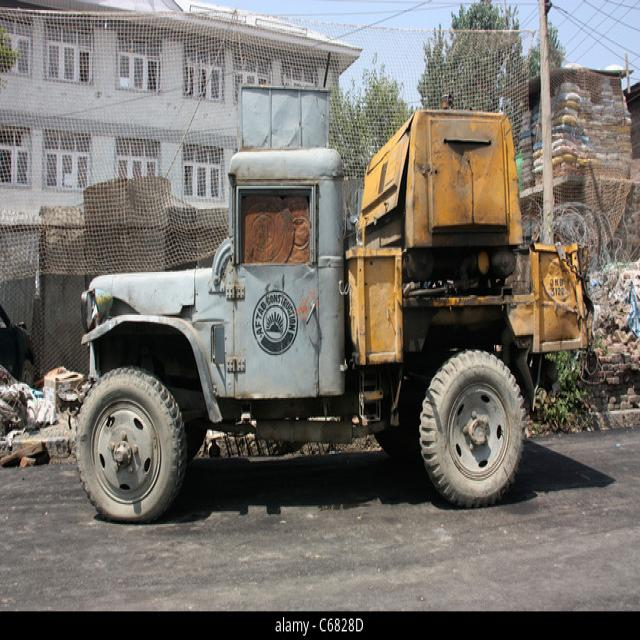goods: (359, 111, 522, 282)
truck: (76, 147, 589, 520)
